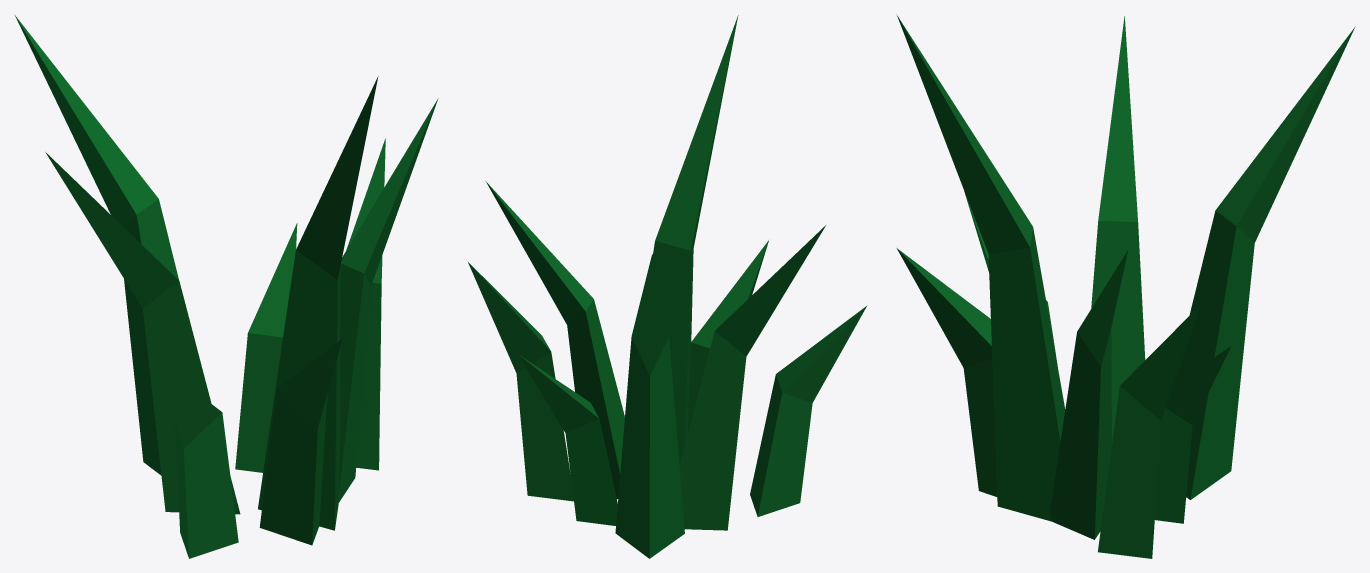
File: grass3.obj
3 renders of one model, left to right at view 1: azimuth 30°, elevation 25°; view 2: azimuth 150°, elevation 25°; view 3: azimuth 270°, elevation 25°, orthographic. The views are drawn at different scales.
Parts seen in each view (by area): view 1: Circle.012, Circle.005; view 2: Circle.012, Circle.005; view 3: Circle.012, Circle.005.
Part boxes in pixels (x1,y1,x2,y2): Circle.012: [14, 14, 385, 558]; Circle.005: [45, 98, 438, 545]; Circle.012: [468, 15, 866, 558]; Circle.005: [485, 181, 825, 530]; Circle.012: [896, 14, 1355, 558]; Circle.005: [896, 16, 1231, 539].
Bounding box in the file's own units: 0.5475 × 0.6538 × 0.5567.
